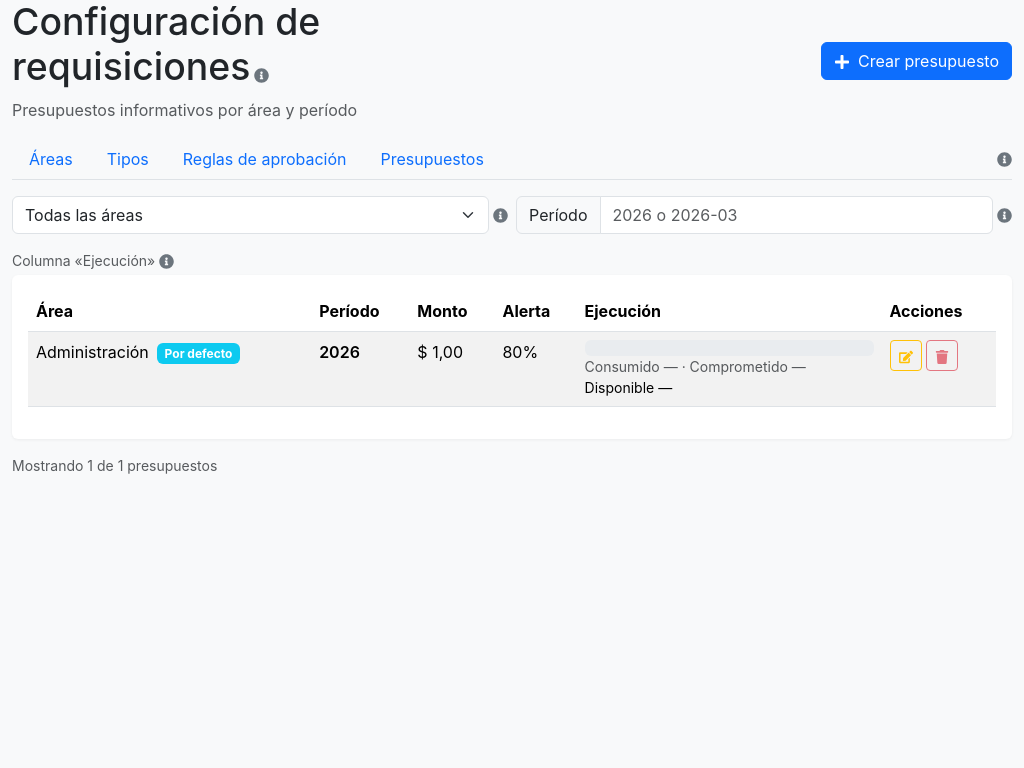
Test: system (default) rows › PresupuestosPage edit modal keeps area and period disabled with explanation
Click the button named "Editar presupuesto 2026" at (906, 355), box [890, 340, 922, 371]
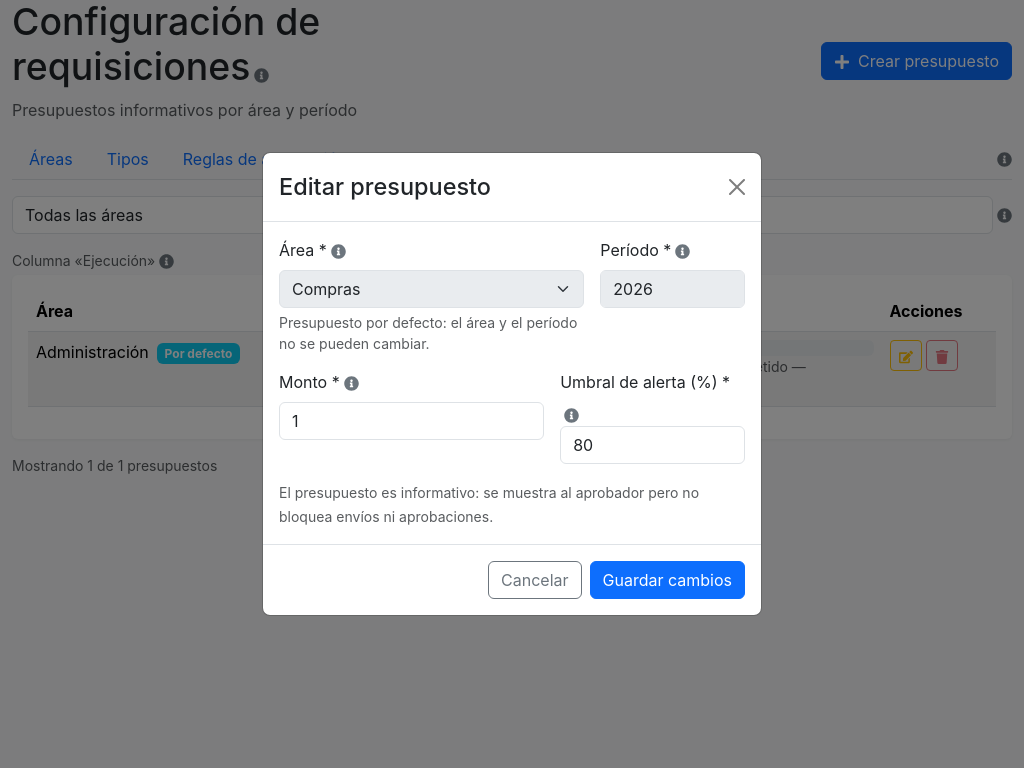
Expected: the text "no se pueden cambiar" is shown, [279, 314, 577, 352]
Expected: the dropdown labelled "Área *" is disabled, [279, 270, 584, 308]
Expected: the field labelled "Período *" is disabled, [600, 270, 745, 308]
